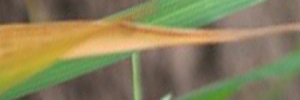RiceTungro: (4, 17, 297, 58)
